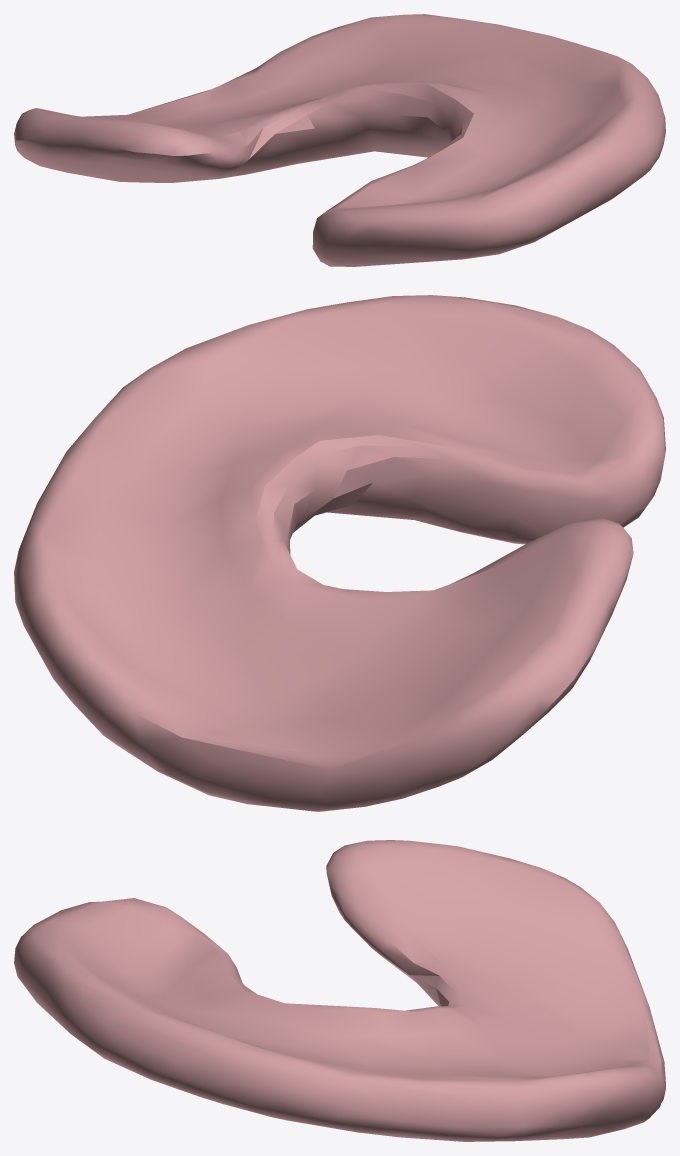
File: fma44633_mm1395.glb
3 views of the same model, one above another, from view 1: azimuth 30°, elevation 25°; view 2: azimuth 150°, elevation 25°; view 3: azimuth 270°, elevation 25° (orthographic). The views are drawn at different scales.
Visible parts, largest first — view 1: FMA44633_MM1395; view 2: FMA44633_MM1395; view 3: FMA44633_MM1395.
Boxes of the visible parts, x1,y1,x2,y2 form: FMA44633_MM1395: (14,14,665,266); FMA44633_MM1395: (14,295,665,811); FMA44633_MM1395: (14,840,665,1141).
Bounding box in the file's own units: 0.0346 × 0.0121 × 0.0385.
